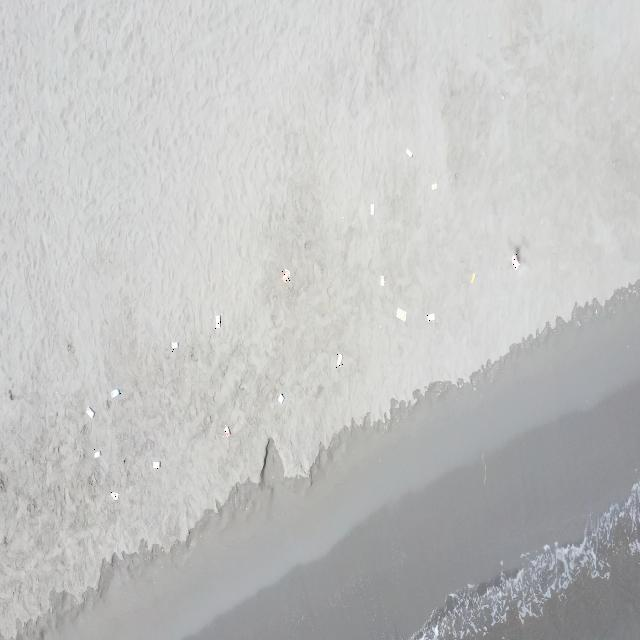Garbage: (395, 307, 406, 320), (512, 252, 519, 268), (280, 268, 289, 280), (335, 352, 342, 367), (85, 406, 94, 417), (213, 315, 220, 328), (92, 448, 100, 457), (110, 491, 118, 500), (111, 388, 119, 397), (276, 393, 283, 403), (172, 340, 178, 351), (152, 460, 160, 468), (223, 426, 230, 435), (426, 313, 433, 322), (470, 272, 475, 283), (406, 148, 412, 156), (431, 181, 436, 190), (369, 201, 372, 215), (380, 275, 383, 286)
